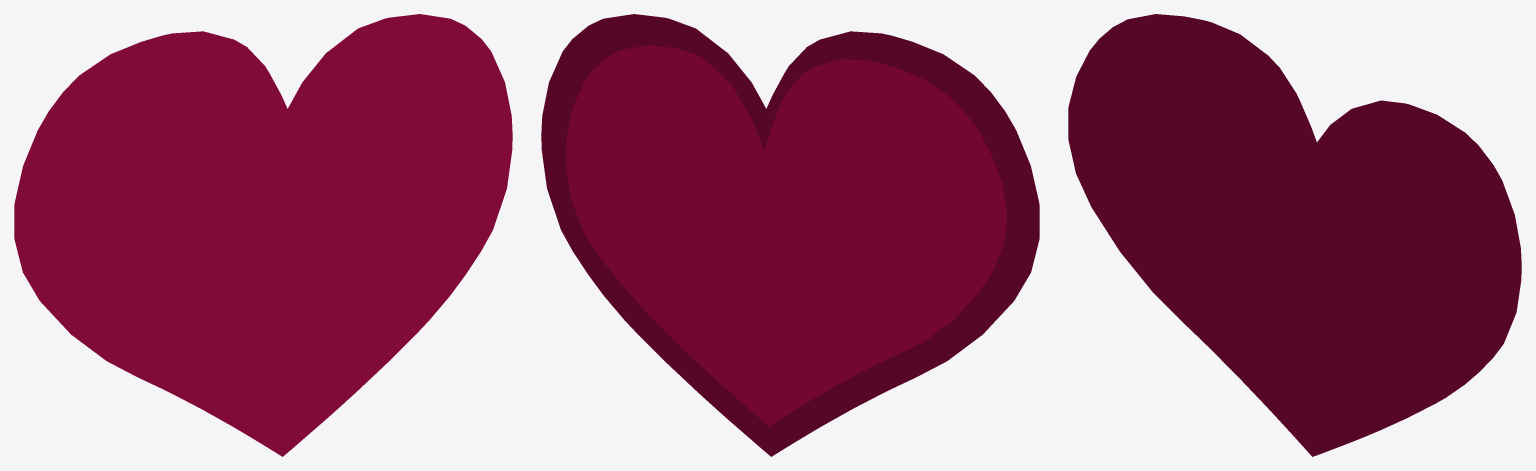
File: heart.fbx
The picture shows the model from 3 angles, left to right: view 1: azimuth 30°, elevation 25°; view 2: azimuth 150°, elevation 25°; view 3: azimuth 330°, elevation 25°; orthographic projection. The views are drawn at different scales.
Parts seen in each view (by area): view 1: heart_out; view 2: heart_in, heart_out; view 3: heart_out.
Part boxes in pixels (x1,y1,x2,y2): heart_out: (14,14,512,456); heart_in: (565,45,1007,425); heart_out: (541,14,1039,456); heart_out: (1068,14,1521,456).
Bounding box in the file's own units: 93.06 × 80.42 × 0.6138.
